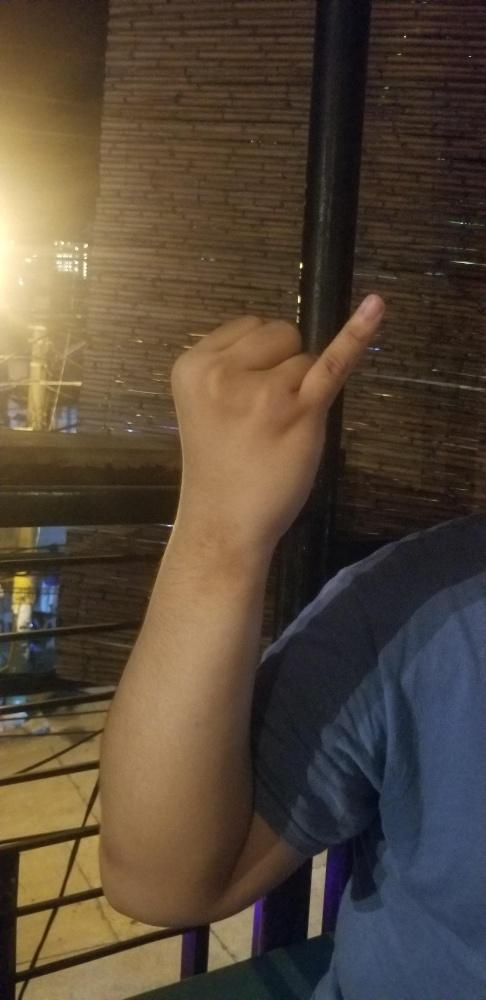j: (169, 291, 386, 521)
